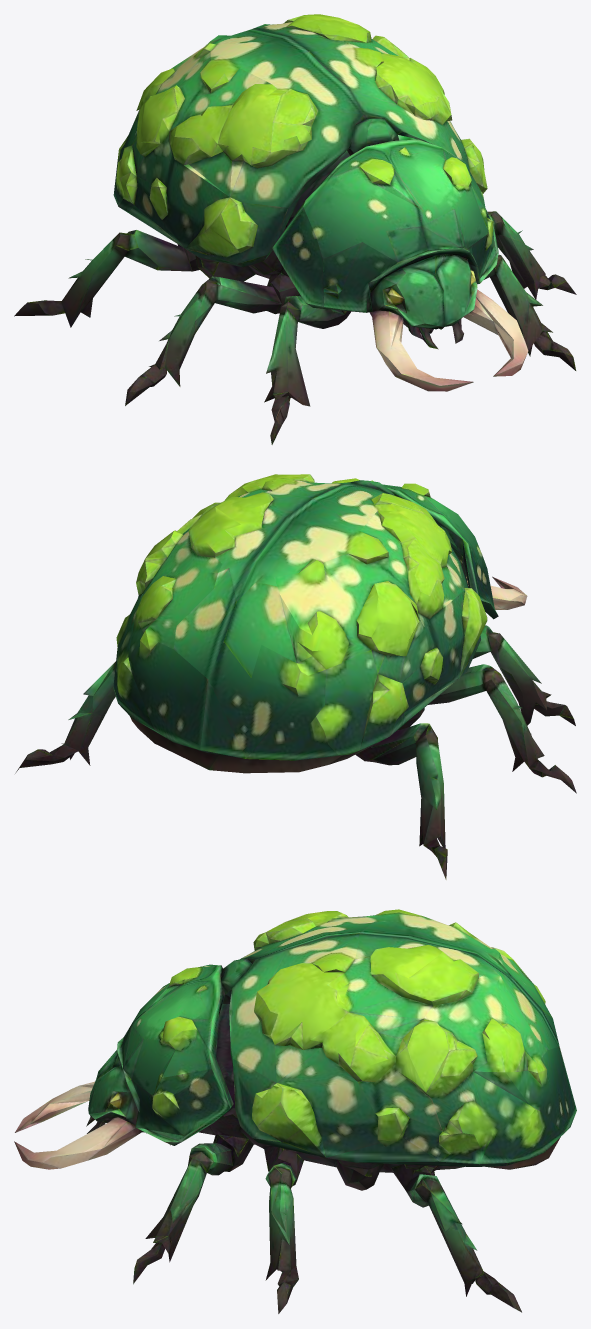
File: moss_beetle.glb
3 renders of one model, top to bottom at view 1: azimuth 30°, elevation 25°; view 2: azimuth 150°, elevation 25°; view 3: azimuth 270°, elevation 25°, orthographic.
Size of the model in its own units: 1.76 by 1.03 by 1.9.
1 material, 1 textured.
